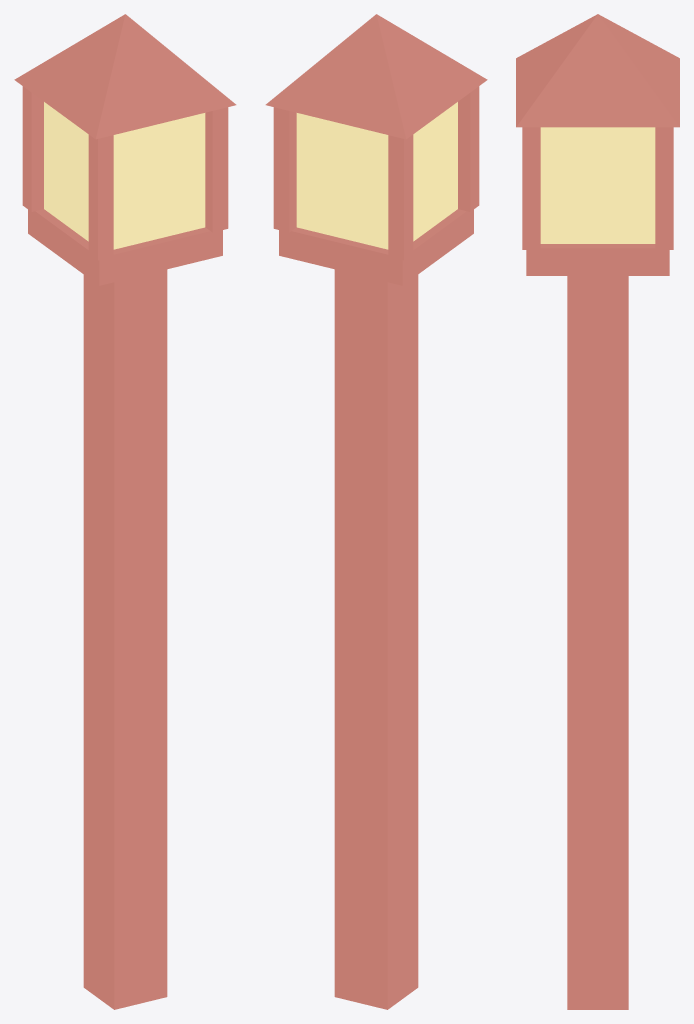
File: Blender_Lantern_1.glb
The picture shows the model from 3 angles, left to right: view 1: azimuth 30°, elevation 25°; view 2: azimuth 150°, elevation 25°; view 3: azimuth 270°, elevation 25°; orthographic projection.
Parts seen in each view (by area): view 1: Blender_Lantern_1; view 2: Blender_Lantern_1; view 3: Blender_Lantern_1.
Part boxes in pixels (<box>): Blender_Lantern_1: <box>14,14,236,1009</box>; Blender_Lantern_1: <box>265,14,487,1009</box>; Blender_Lantern_1: <box>516,14,679,1009</box>.
Size of the model in its own units: 0.32 by 2.12 by 0.32.
